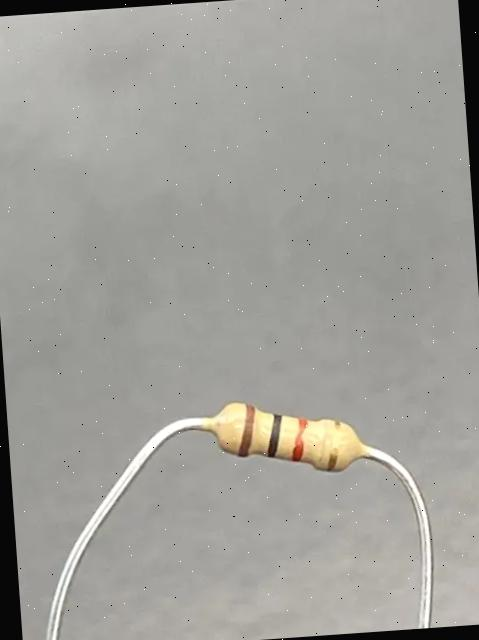black: (266, 411, 282, 460)
brown: (237, 402, 255, 459)
gold: (326, 419, 342, 475)
red: (288, 416, 309, 464)
resistor: (196, 373, 394, 499)
